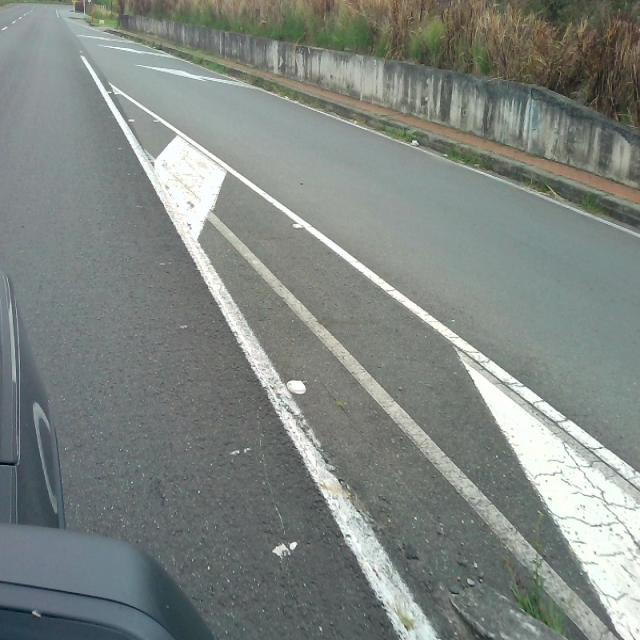DITCH: (3, 5, 638, 638), (1, 58, 638, 639), (60, 72, 638, 638)
